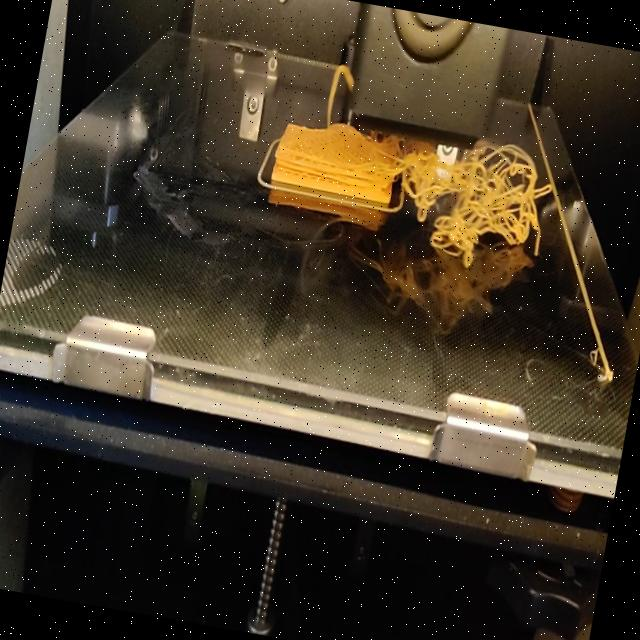spaghetti: (448, 136, 561, 274), (394, 140, 468, 258)
